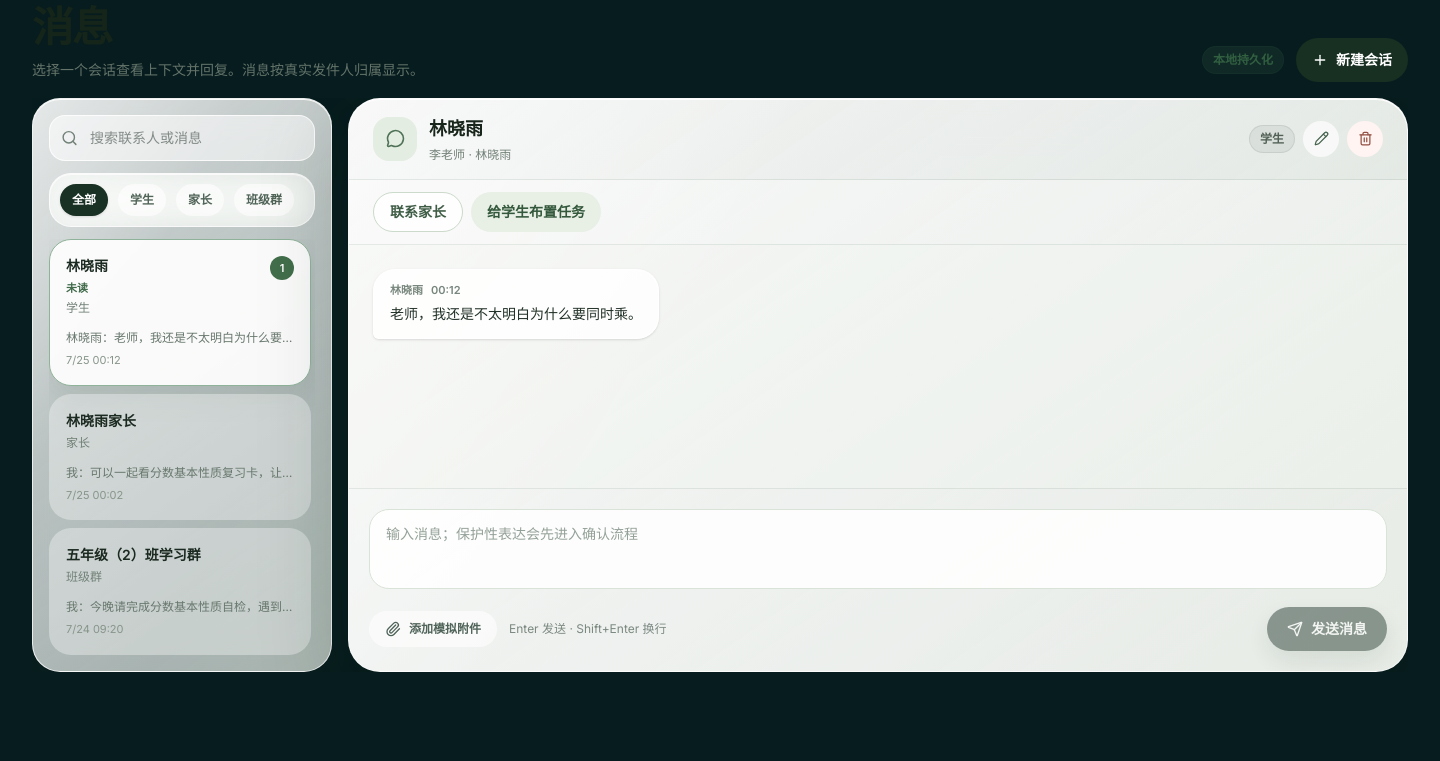
Test case: MessagesPage › creates a student conversation from the student roster with a linked student ID
Step 1. Click the button "新建会话" → {"x": 1352, "y": 60}, box [1296,38,1408,82]
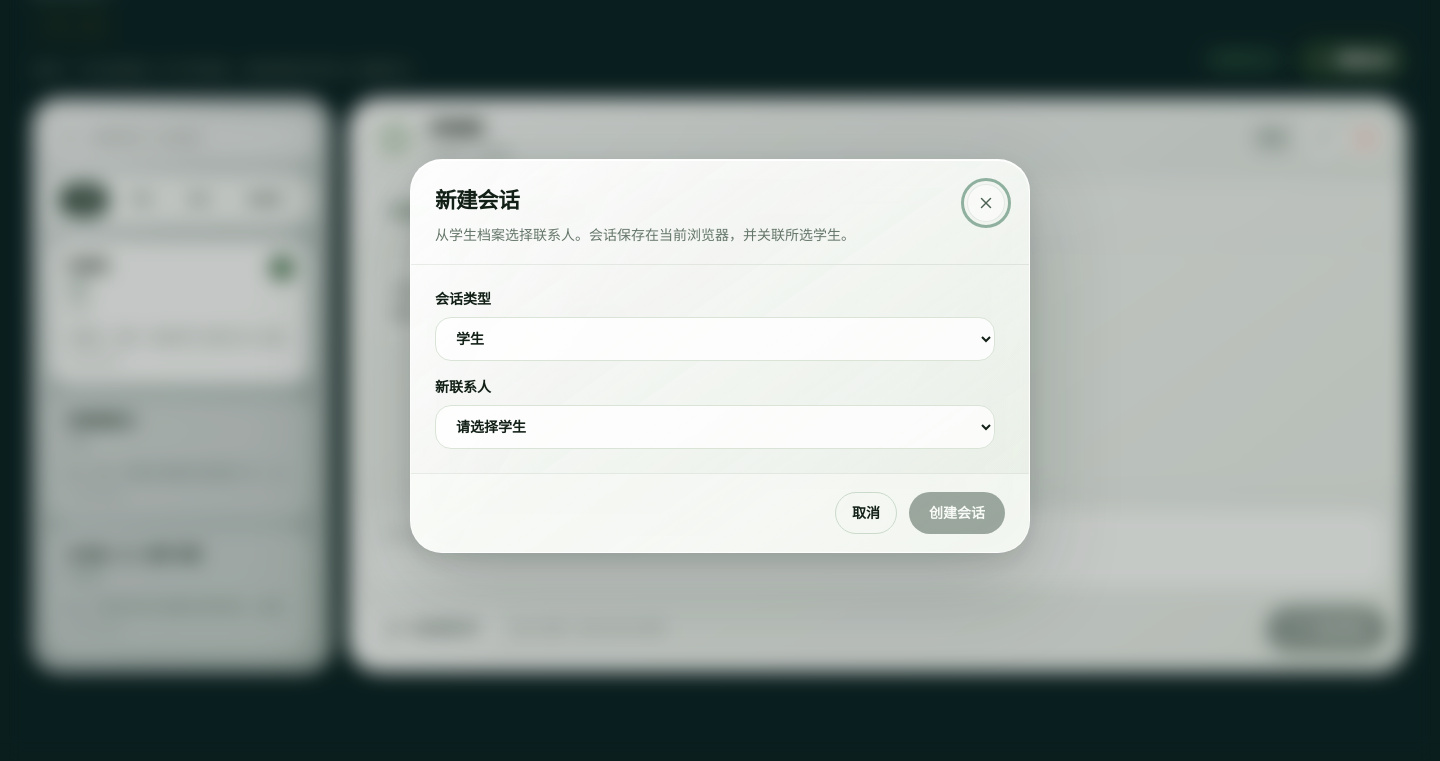
Step 2. Select "郭浩然" in the dropdown named "选择学生联系人" → {"x": 715, "y": 427}, box [435,405,995,449]
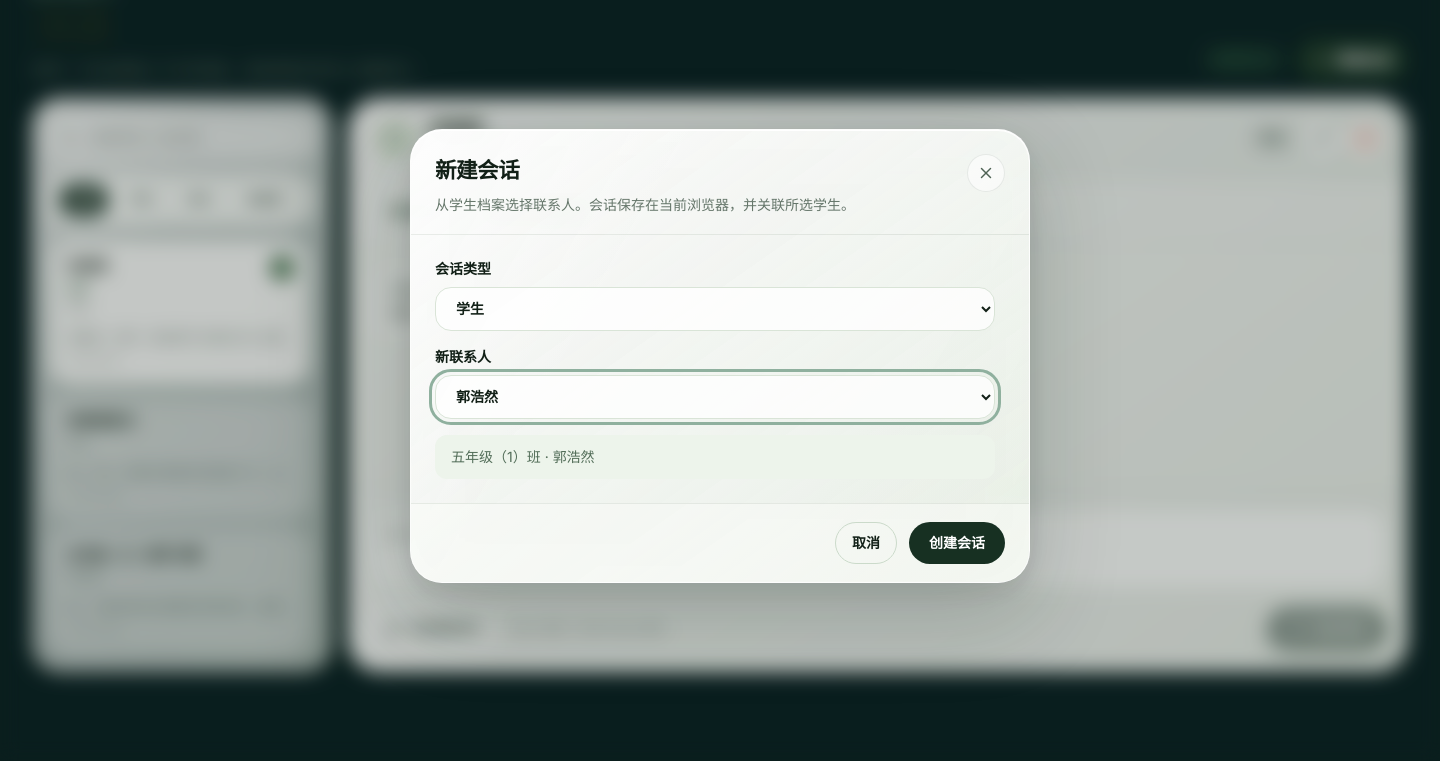
Step 3. Click the button "创建会话" → {"x": 957, "y": 543}, box [909,522,1005,564]
(page scrolled)
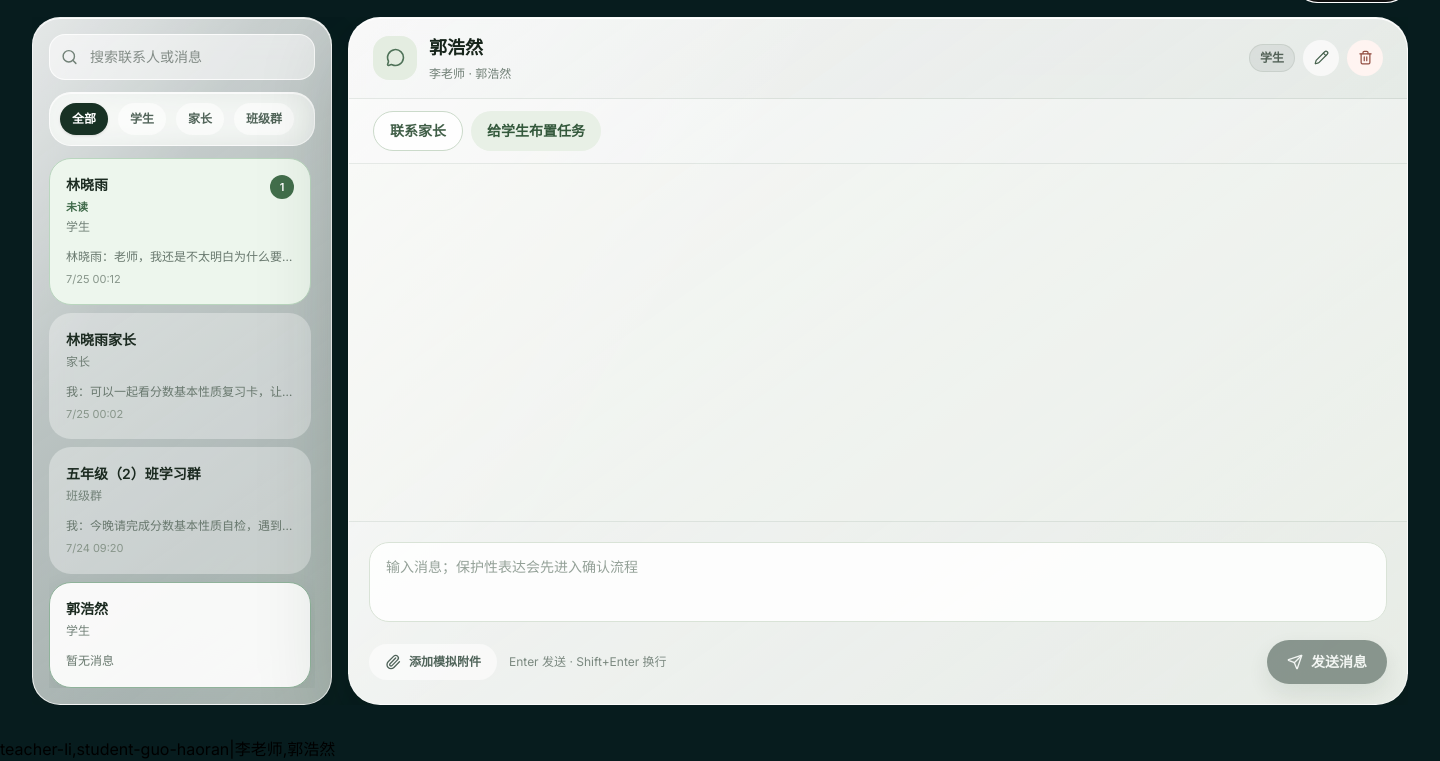
Expected: the heading "郭浩然" is shown, [429,37,483,58]
Expected: the text with test id "linked-conversation" reads "teacher-li,student-guo-haoran|李老师,郭浩然", [0,739,335,759]
